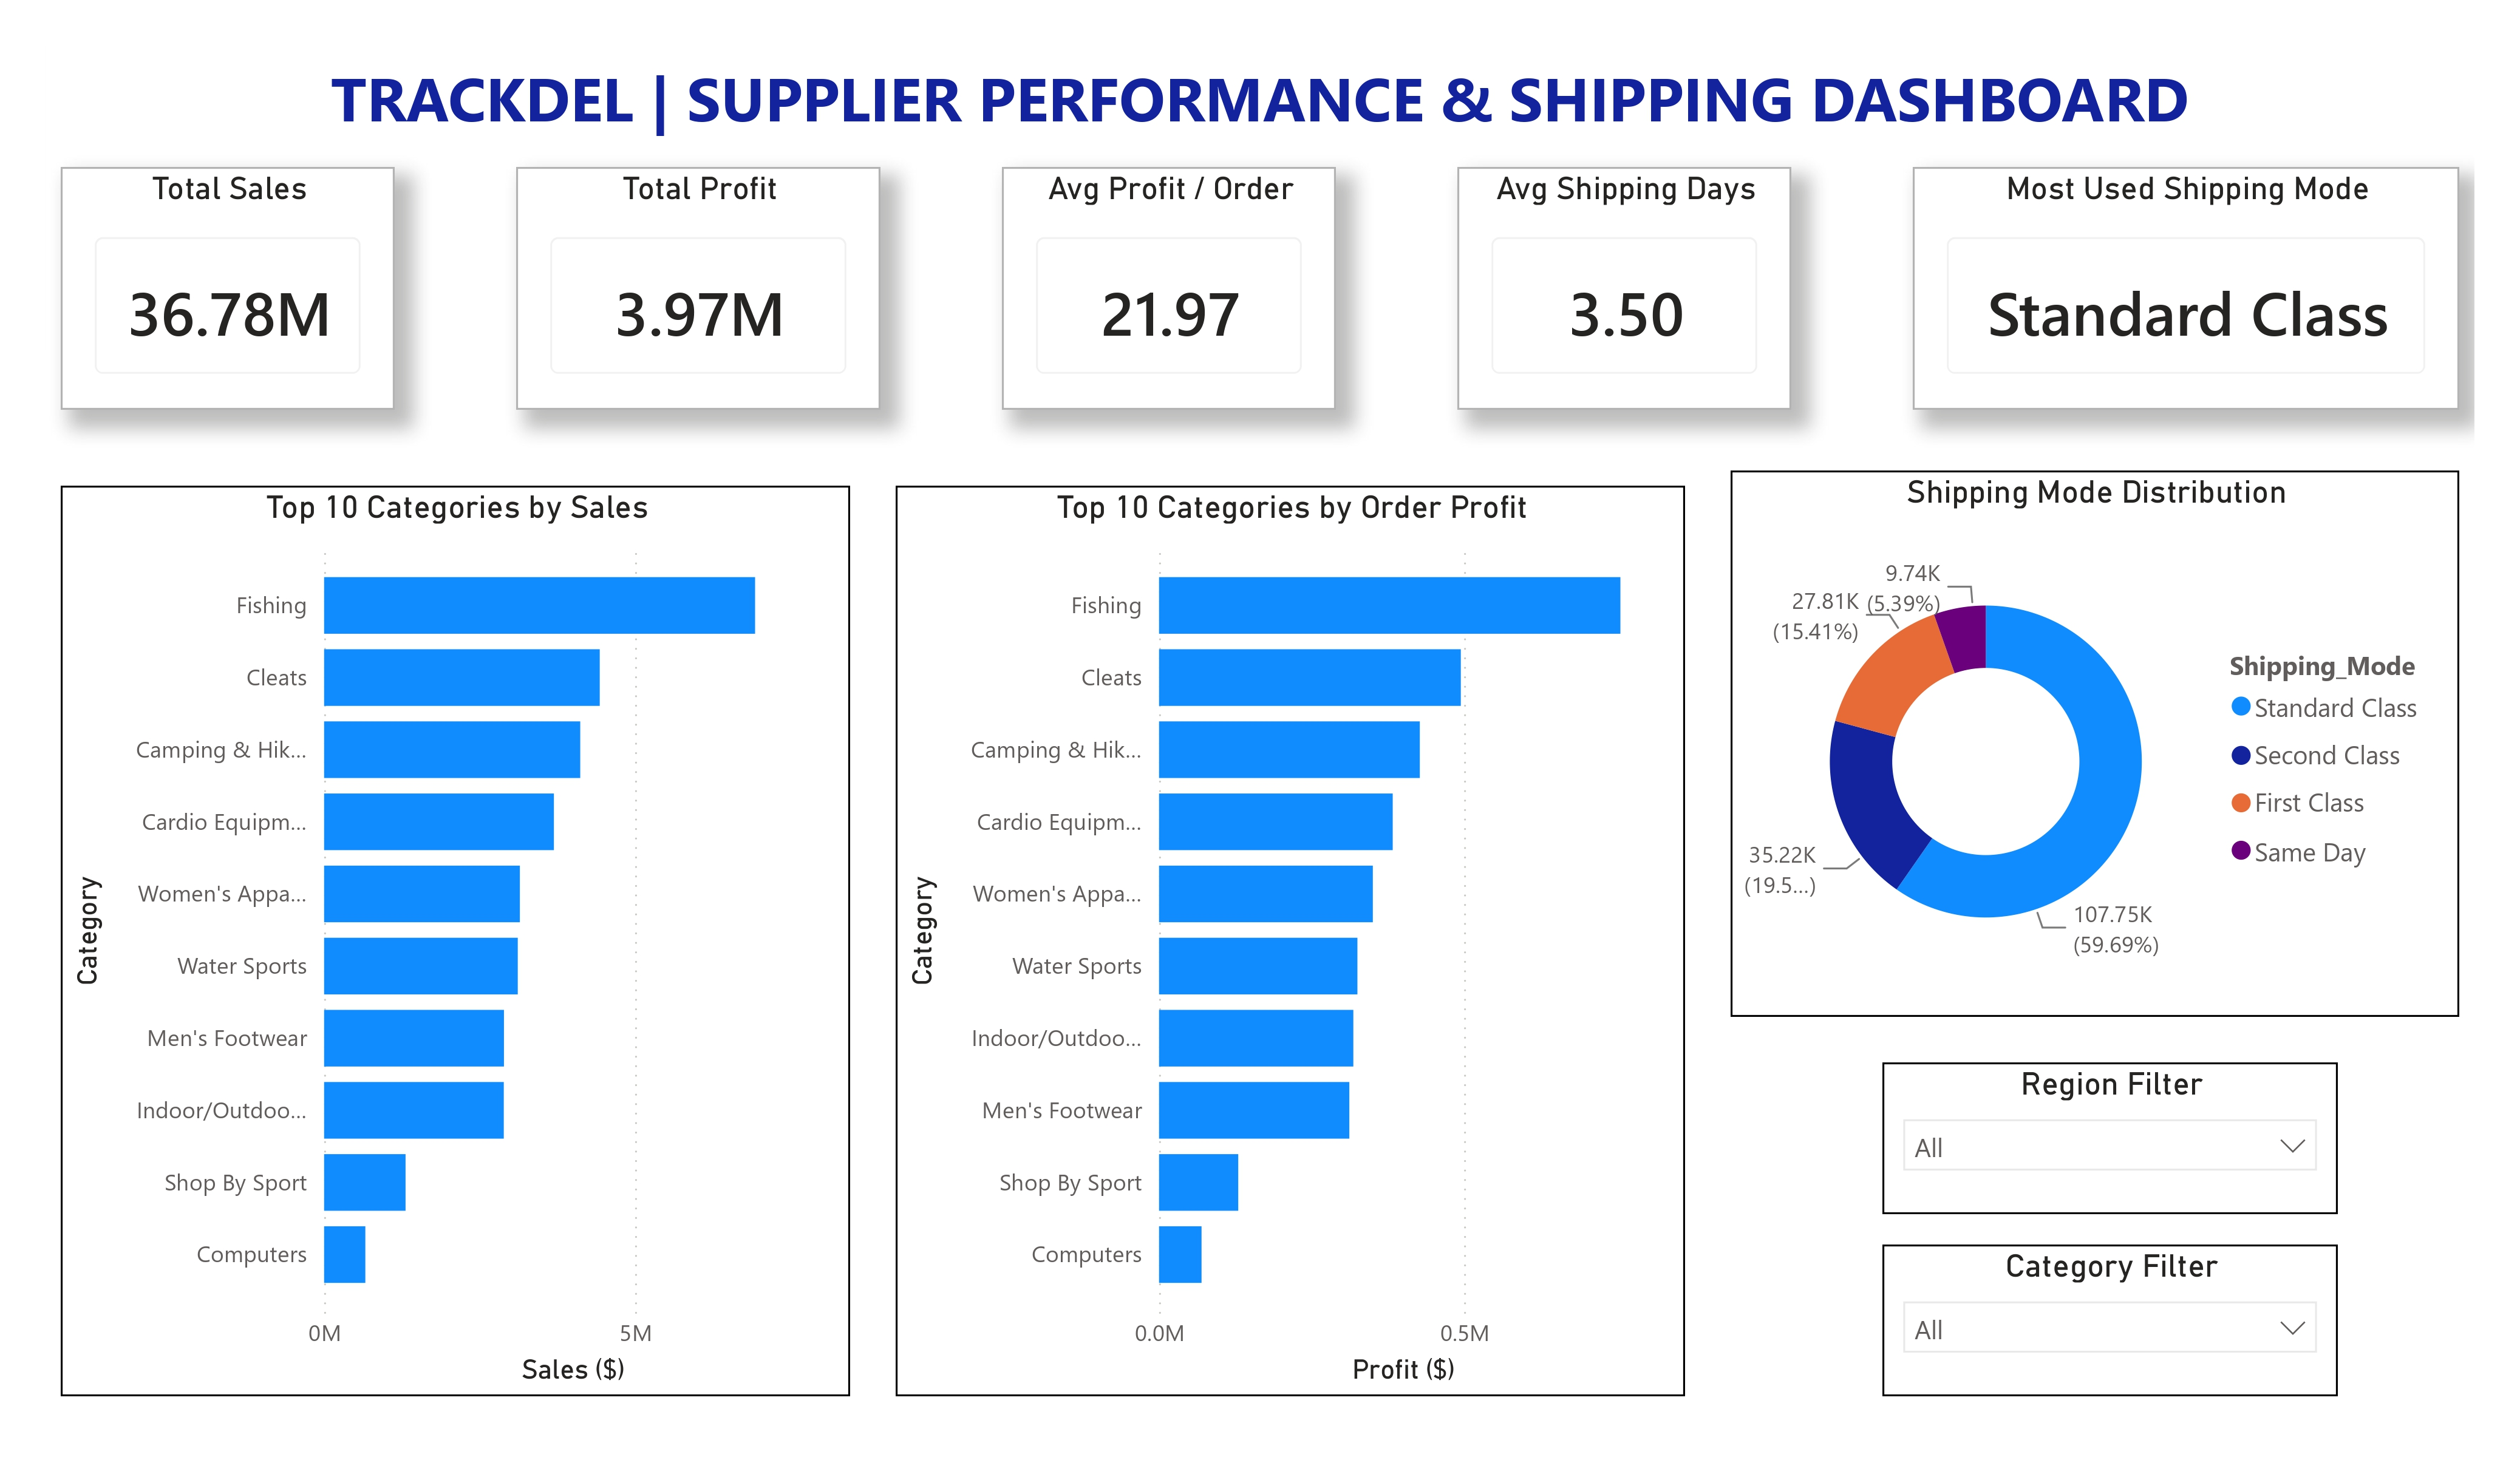

The page's visual inventory and layout, read from the dashboard file:
{"tool":"powerbi","page":{"name":"Page 2","canvas":[1280,720],"ordinal":1},"visuals":[{"type":"textbox","box":[0,0,1280,64],"z":0},{"type":"cardVisual","title":"Total Sales","fields":{"Data":["trackdel trackdel_data.Total Sales"]},"box":[8,64,176,128],"z":1000},{"type":"cardVisual","title":"Avg Profit / Order","fields":{"Data":["trackdel trackdel_data.Avg Profit per Order"]},"box":[504,64,176,128],"z":2000},{"type":"cardVisual","title":"Total Profit","fields":{"Data":["trackdel trackdel_data.Total Profit"]},"box":[248,64,192,128],"z":3000},{"type":"cardVisual","title":"Avg Shipping Days","fields":{"Data":["trackdel trackdel_data.Avg Shipping Days"]},"box":[744,64,176,128],"z":4000},{"type":"cardVisual","title":"Most Used Shipping Mode","fields":{"Data":["trackdel trackdel_data.Most Used Shipping Mode"]},"box":[984,64,288,128],"z":5000},{"type":"clusteredBarChart","title":"Top 10 Categories by Sales","fields":{"Category":["trackdel trackdel_data.Category_Name"],"Y":["Sum(trackdel trackdel_data.Sales)"]},"box":[8,232,416,480],"z":6000},{"type":"clusteredBarChart","title":"Top 10 Categories by Order Profit","fields":{"Category":["trackdel trackdel_data.Category_Name"],"Y":["Sum(trackdel trackdel_data.Order_Profit_Per_Order)"]},"box":[448,232,416,480],"z":7000},{"type":"donutChart","title":"Shipping Mode Distribution","fields":{"Category":["trackdel trackdel_data.Shipping_Mode"],"Y":["CountNonNull(trackdel trackdel_data.Order_Id)"]},"box":[888,224,384,288],"z":8000},{"type":"slicer","title":"Region Filter","fields":{"Values":["trackdel trackdel_data.Order_Region"]},"box":[968,536,240,80],"z":9000},{"type":"slicer","title":"Category Filter","fields":{"Values":["trackdel trackdel_data.Category_Name"]},"box":[968,632,240,80],"z":10000}]}

Visuals, with their boxes on the page's 1280x720 design canvas (x1, y1, x2, y2). These are canvas units, not pixel positions in the 2520x1457 screenshot, which may show the page scaled, cropped or inside an application window:
textbox: box=[0, 0, 1280, 64]
"Total Sales" cardVisual: box=[8, 64, 184, 192]
"Avg Profit / Order" cardVisual: box=[504, 64, 680, 192]
"Total Profit" cardVisual: box=[248, 64, 440, 192]
"Avg Shipping Days" cardVisual: box=[744, 64, 920, 192]
"Most Used Shipping Mode" cardVisual: box=[984, 64, 1272, 192]
"Top 10 Categories by Sales" clusteredBarChart: box=[8, 232, 424, 712]
"Top 10 Categories by Order Profit" clusteredBarChart: box=[448, 232, 864, 712]
"Shipping Mode Distribution" donutChart: box=[888, 224, 1272, 512]
"Region Filter" slicer: box=[968, 536, 1208, 616]
"Category Filter" slicer: box=[968, 632, 1208, 712]
